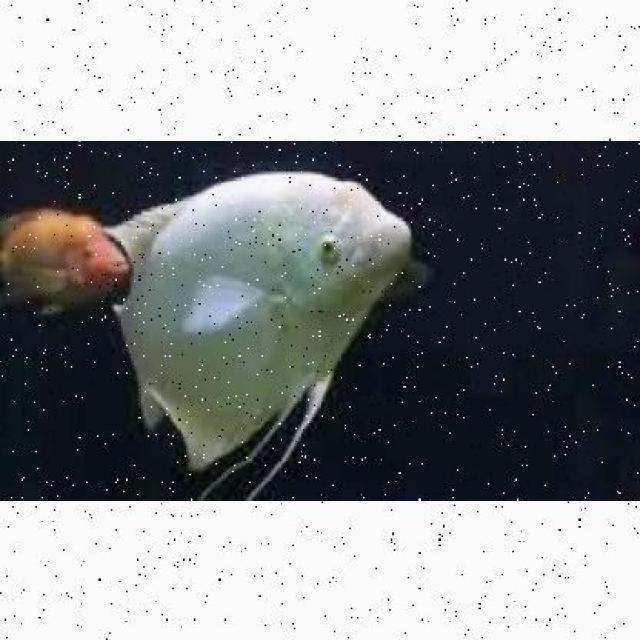gurame: (114, 171, 414, 472)
